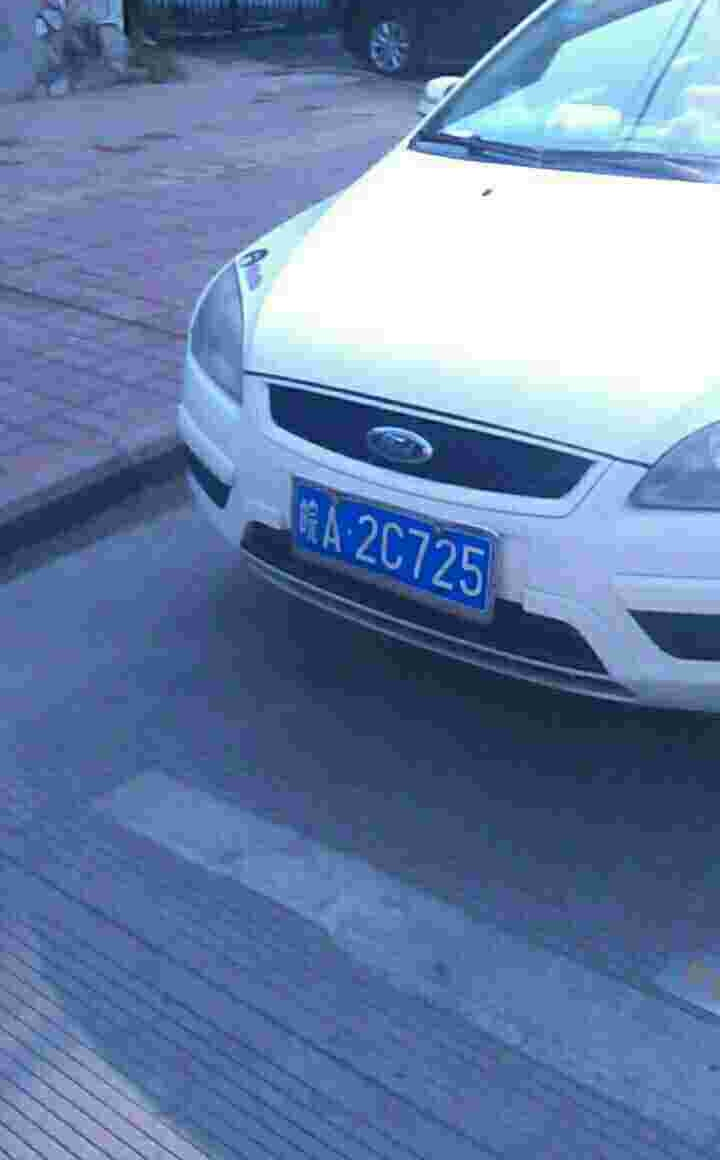license_plate: (282, 473, 493, 614)
